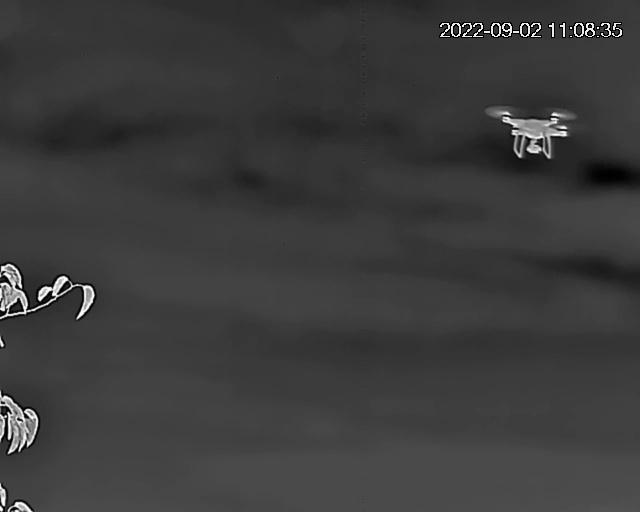DJI-Phantom: (487, 105, 579, 162)
